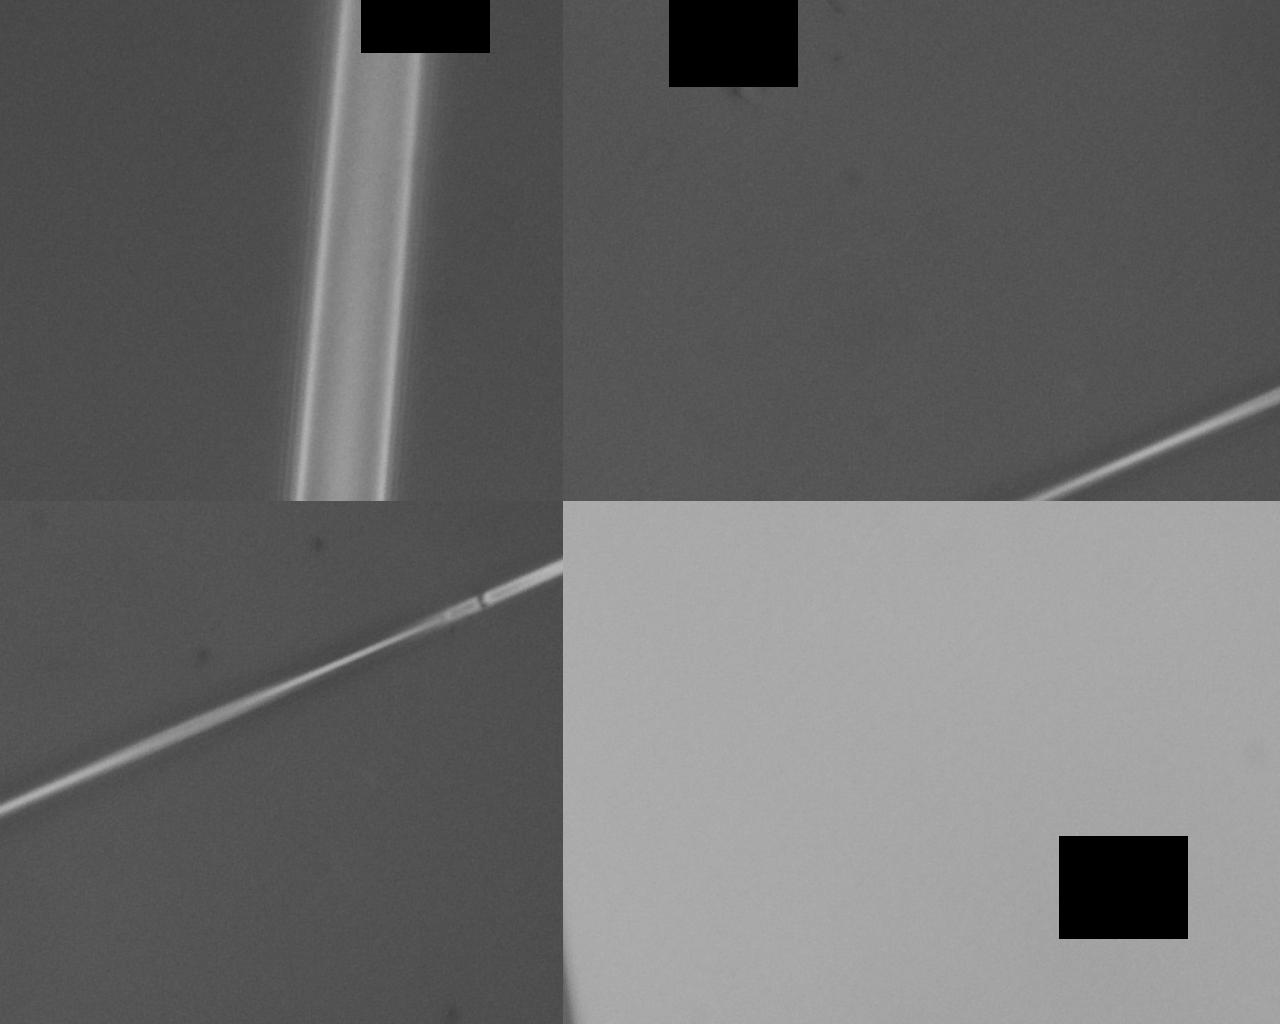fiber: (435, 634, 878, 1024)
